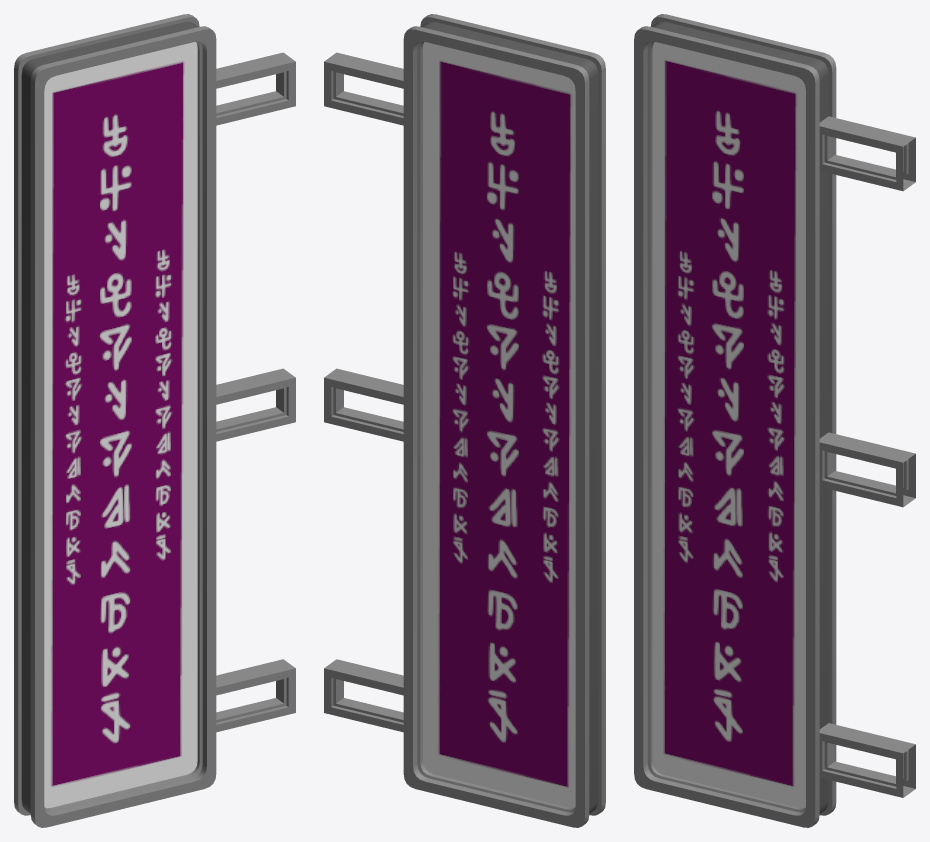
3 views of the same model, side by side, from view 1: azimuth 30°, elevation 25°; view 2: azimuth 150°, elevation 25°; view 3: azimuth 330°, elevation 25° (orthographic).
Parts seen in each view (by area): view 1: MS_4M_4; view 2: MS_4M_4; view 3: MS_4M_4.
Boxes of the visible parts, x1=… form: MS_4M_4: x1=14, y1=14, x2=295, y2=827; MS_4M_4: x1=324, y1=14, x2=605, y2=827; MS_4M_4: x1=634, y1=14, x2=915, y2=827.
Bounding box in the file's own units: 146 × 400 × 19.93.
